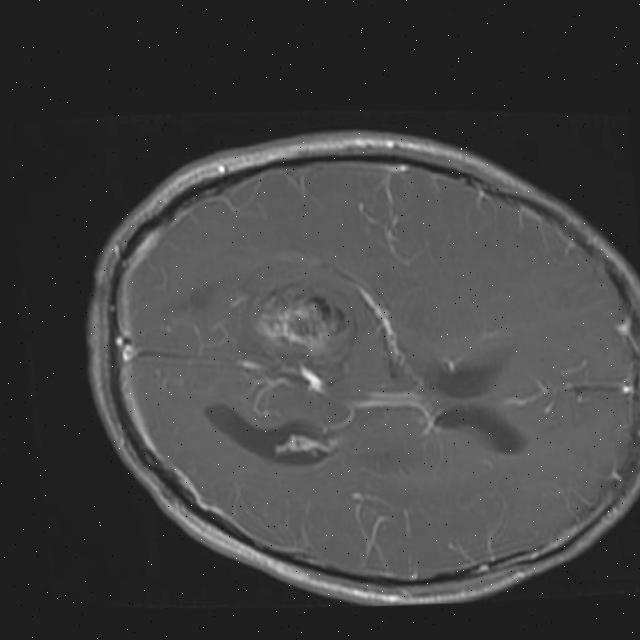Glioma: (247, 281, 356, 371)
